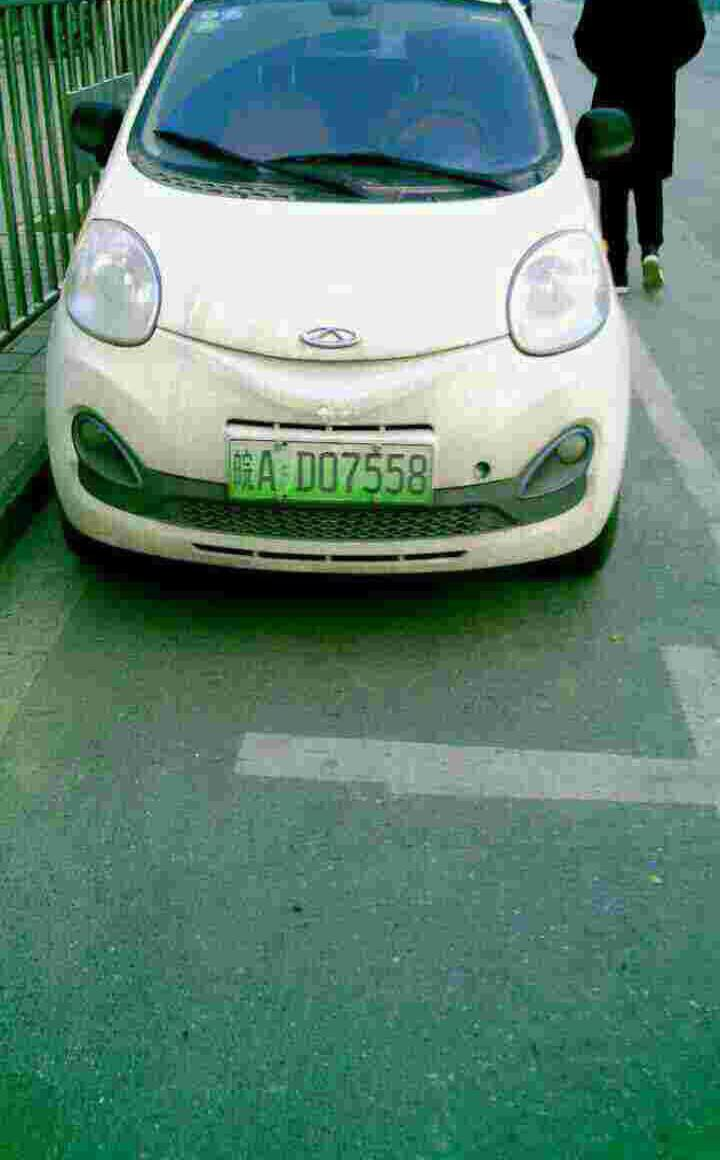car_green: (228, 433, 438, 500)
